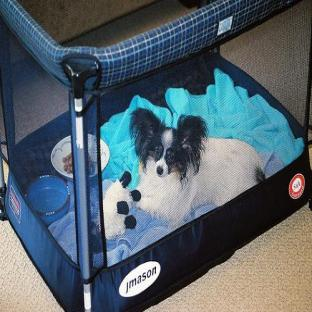Animal: (129, 108, 266, 227)
